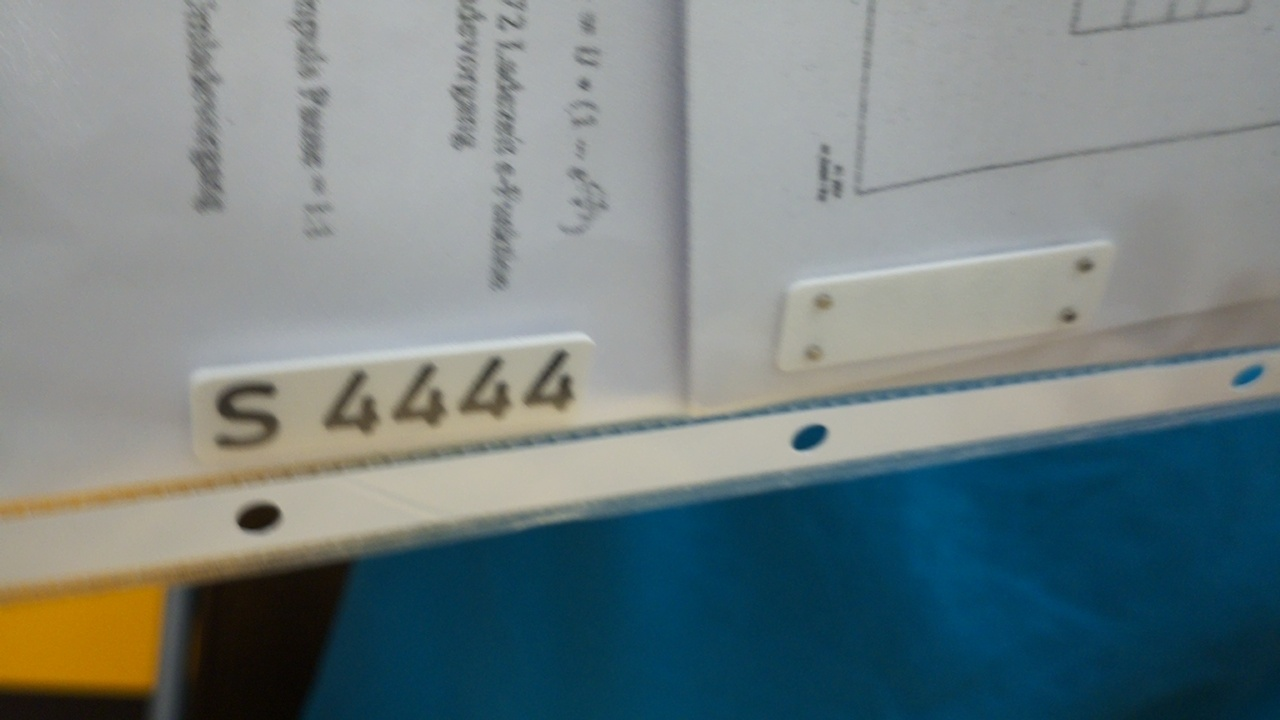license_plate: (187, 329, 603, 473), (774, 232, 1121, 381)
